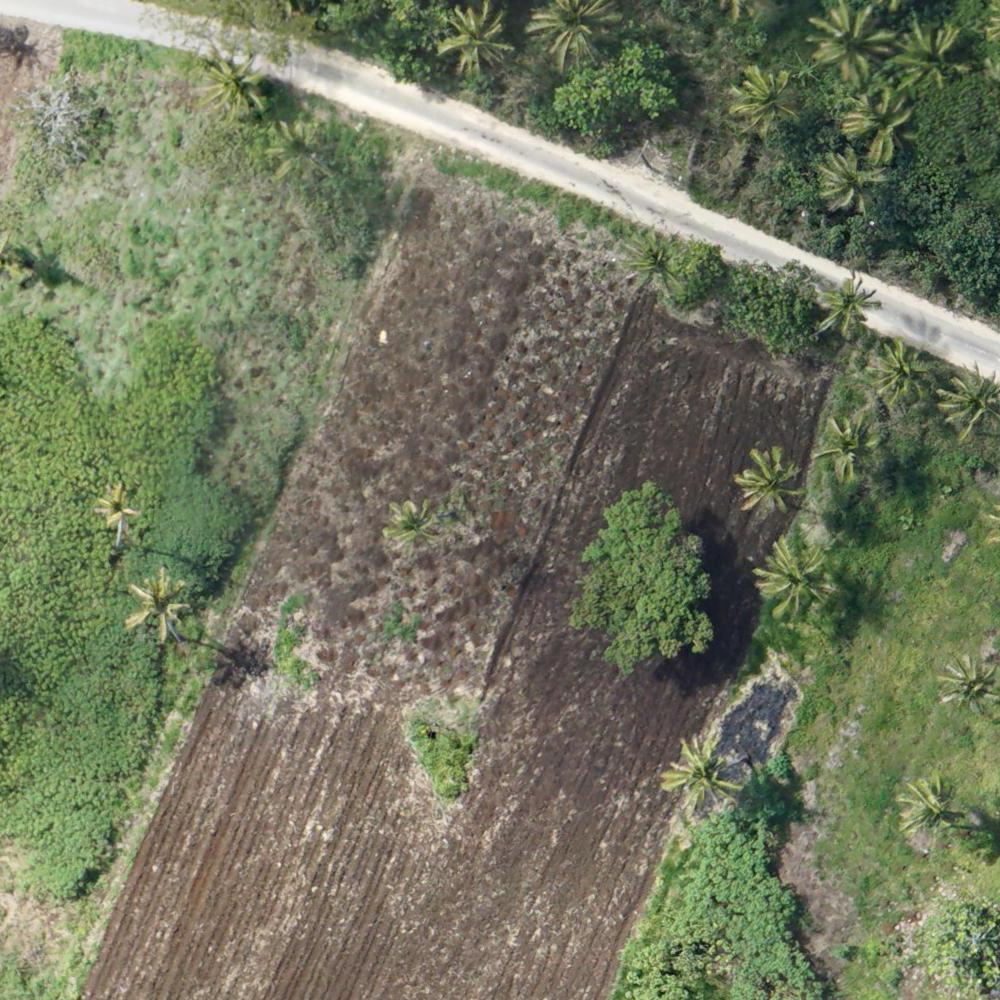Palm: (524, 1, 623, 71), (753, 539, 837, 621), (806, 1, 896, 76), (432, 7, 514, 76), (890, 19, 968, 91), (843, 91, 917, 164), (734, 446, 808, 519), (817, 411, 889, 483), (667, 730, 736, 805), (122, 569, 196, 636), (730, 61, 799, 132), (621, 227, 689, 297), (870, 338, 940, 406), (938, 364, 1000, 436), (938, 652, 1000, 724), (196, 55, 266, 117), (893, 773, 959, 832), (821, 148, 885, 208), (815, 269, 875, 333), (269, 117, 332, 177), (382, 498, 435, 554), (92, 481, 141, 533)
